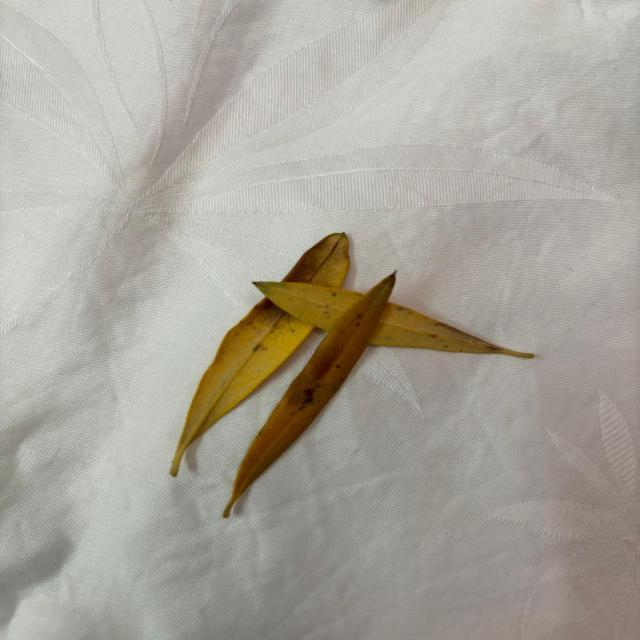OlivePeacockSpot: (170, 233, 533, 518)
